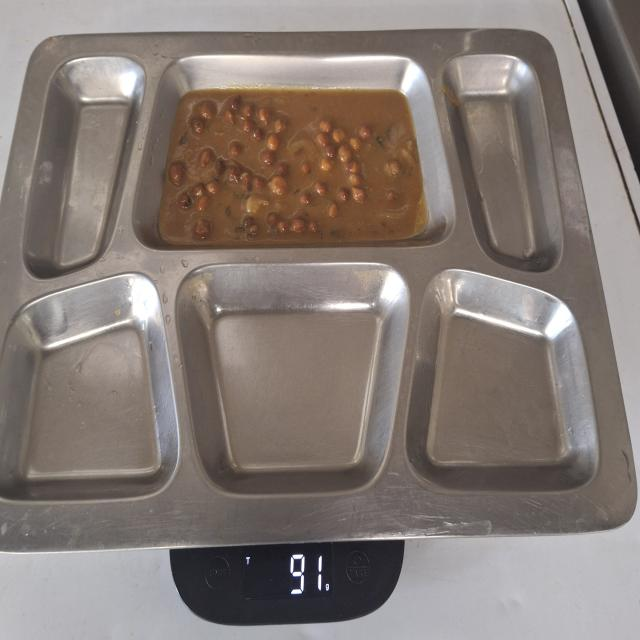Dal: (160, 82, 424, 255)
